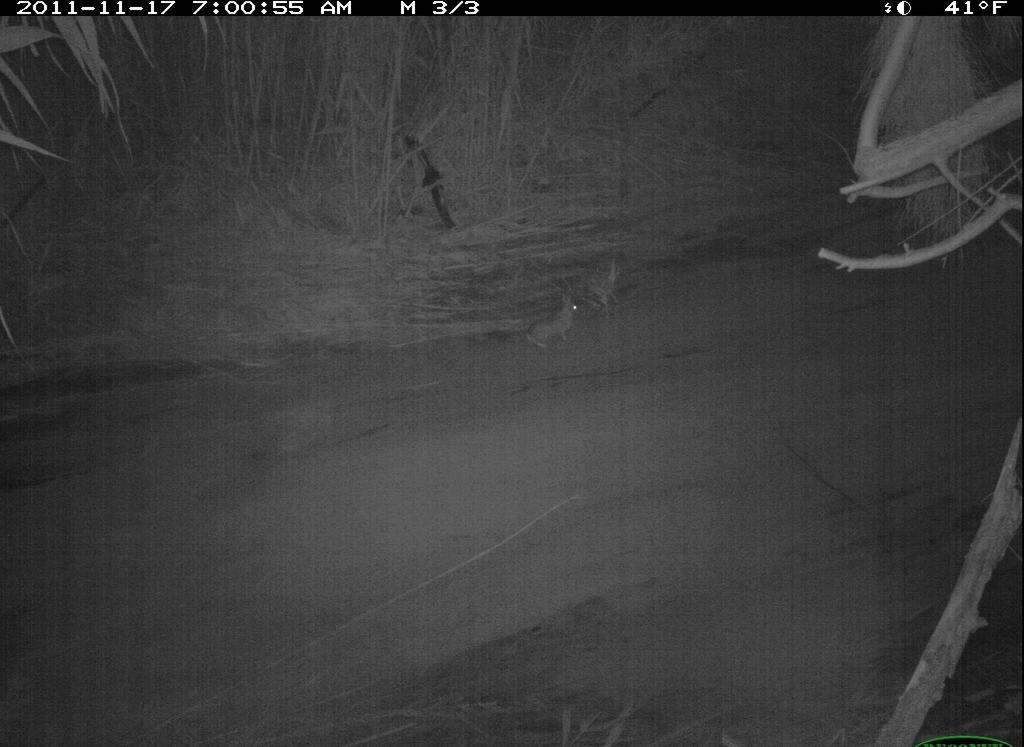rabbit: (507, 265, 594, 364)
